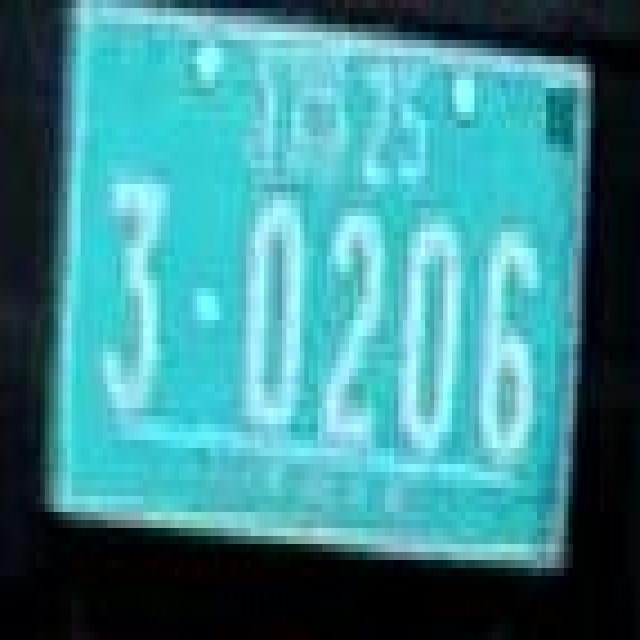State: (251, 48, 349, 196)
